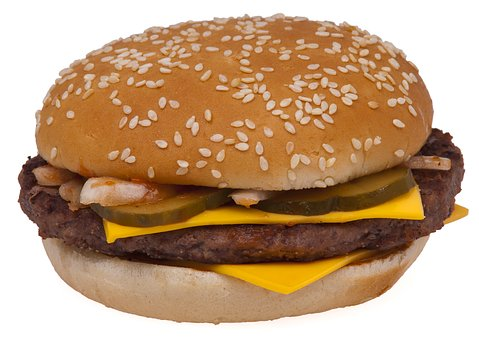hamburger: (10, 10, 470, 340)
